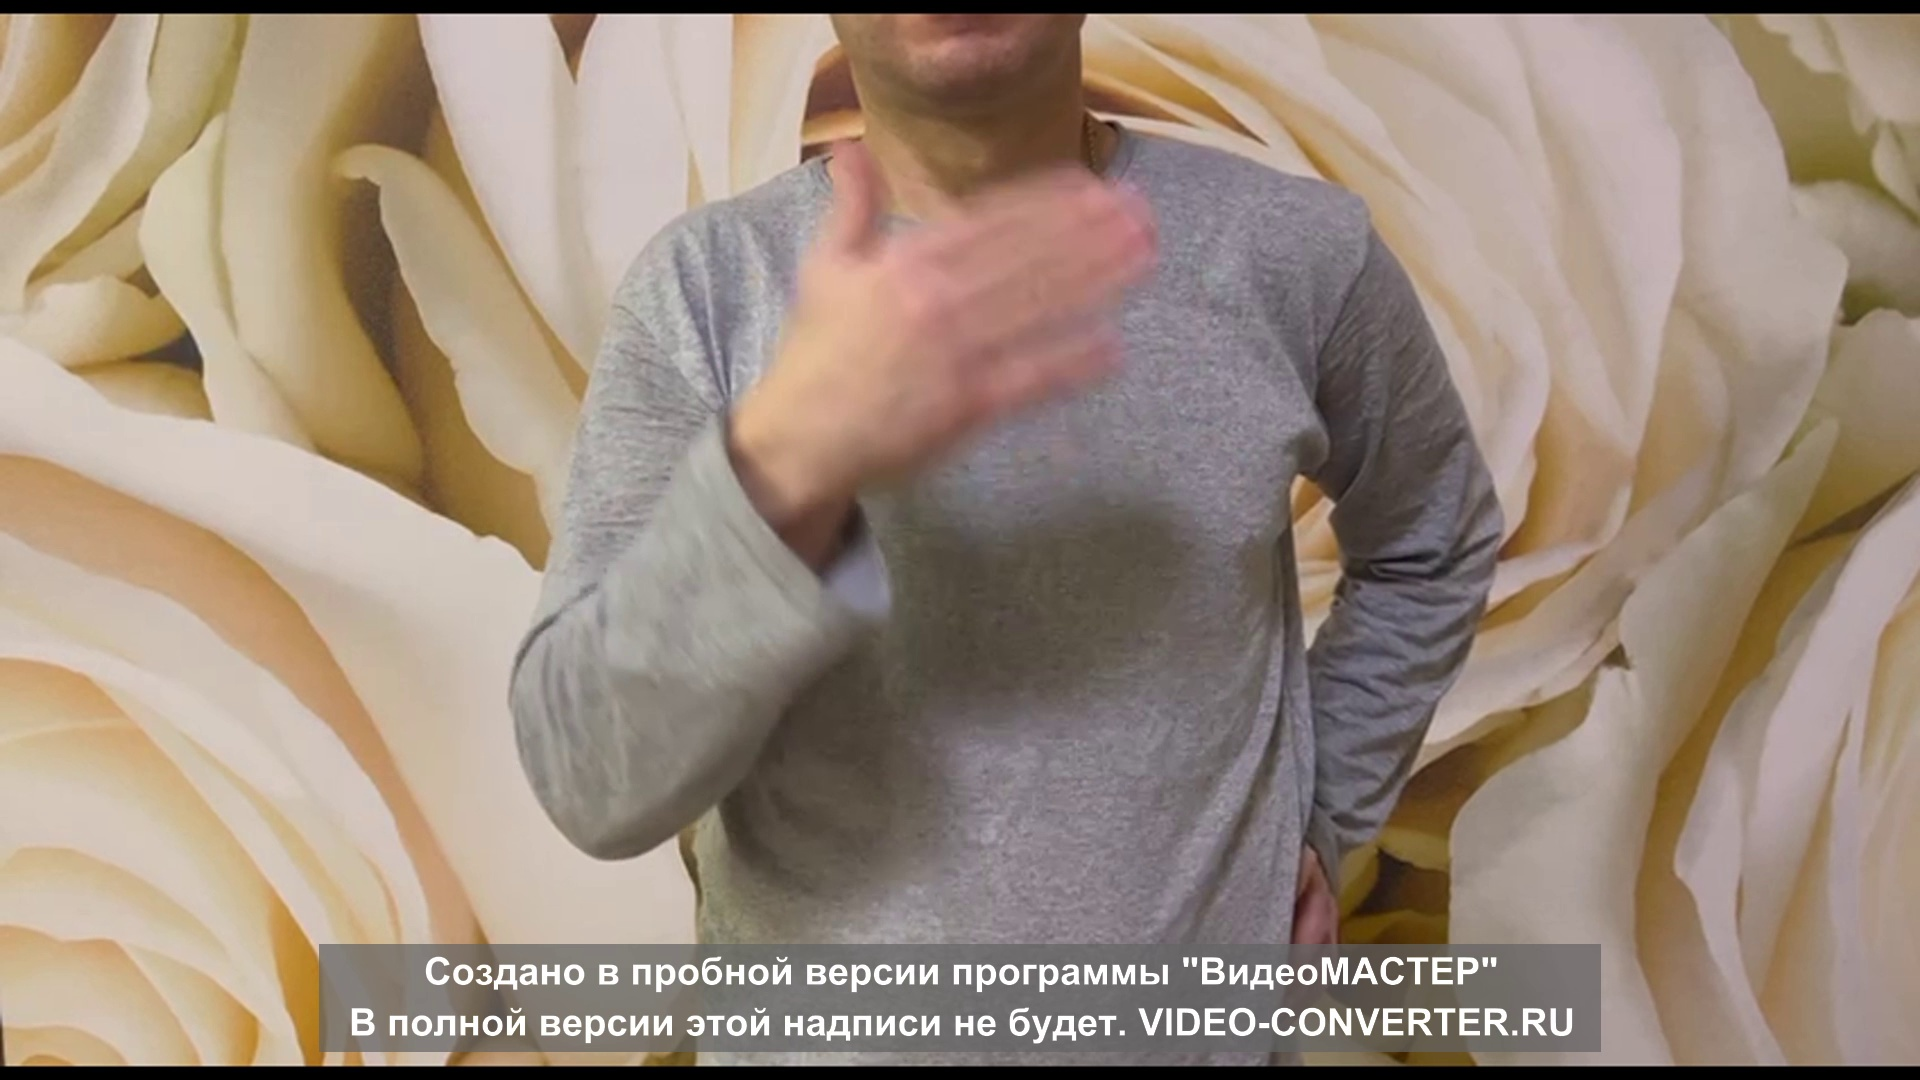Кисть: (775, 141, 1154, 476)
